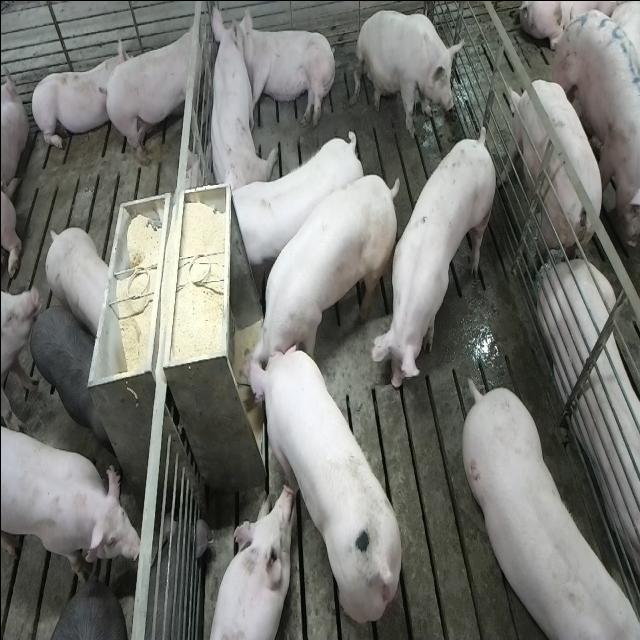Feeding: (241, 342, 404, 624), (239, 170, 396, 386)
Lateral_lying: (235, 9, 338, 129)
Sitting: (354, 6, 466, 140), (204, 9, 269, 198)
Standing: (464, 383, 640, 640), (370, 126, 496, 394), (1, 414, 140, 580), (552, 6, 640, 263), (508, 76, 622, 272), (225, 128, 362, 283), (101, 11, 205, 166), (29, 302, 111, 454), (44, 225, 110, 336), (38, 582, 127, 638)
Sternal_lying: (206, 485, 292, 640), (28, 38, 123, 154)
